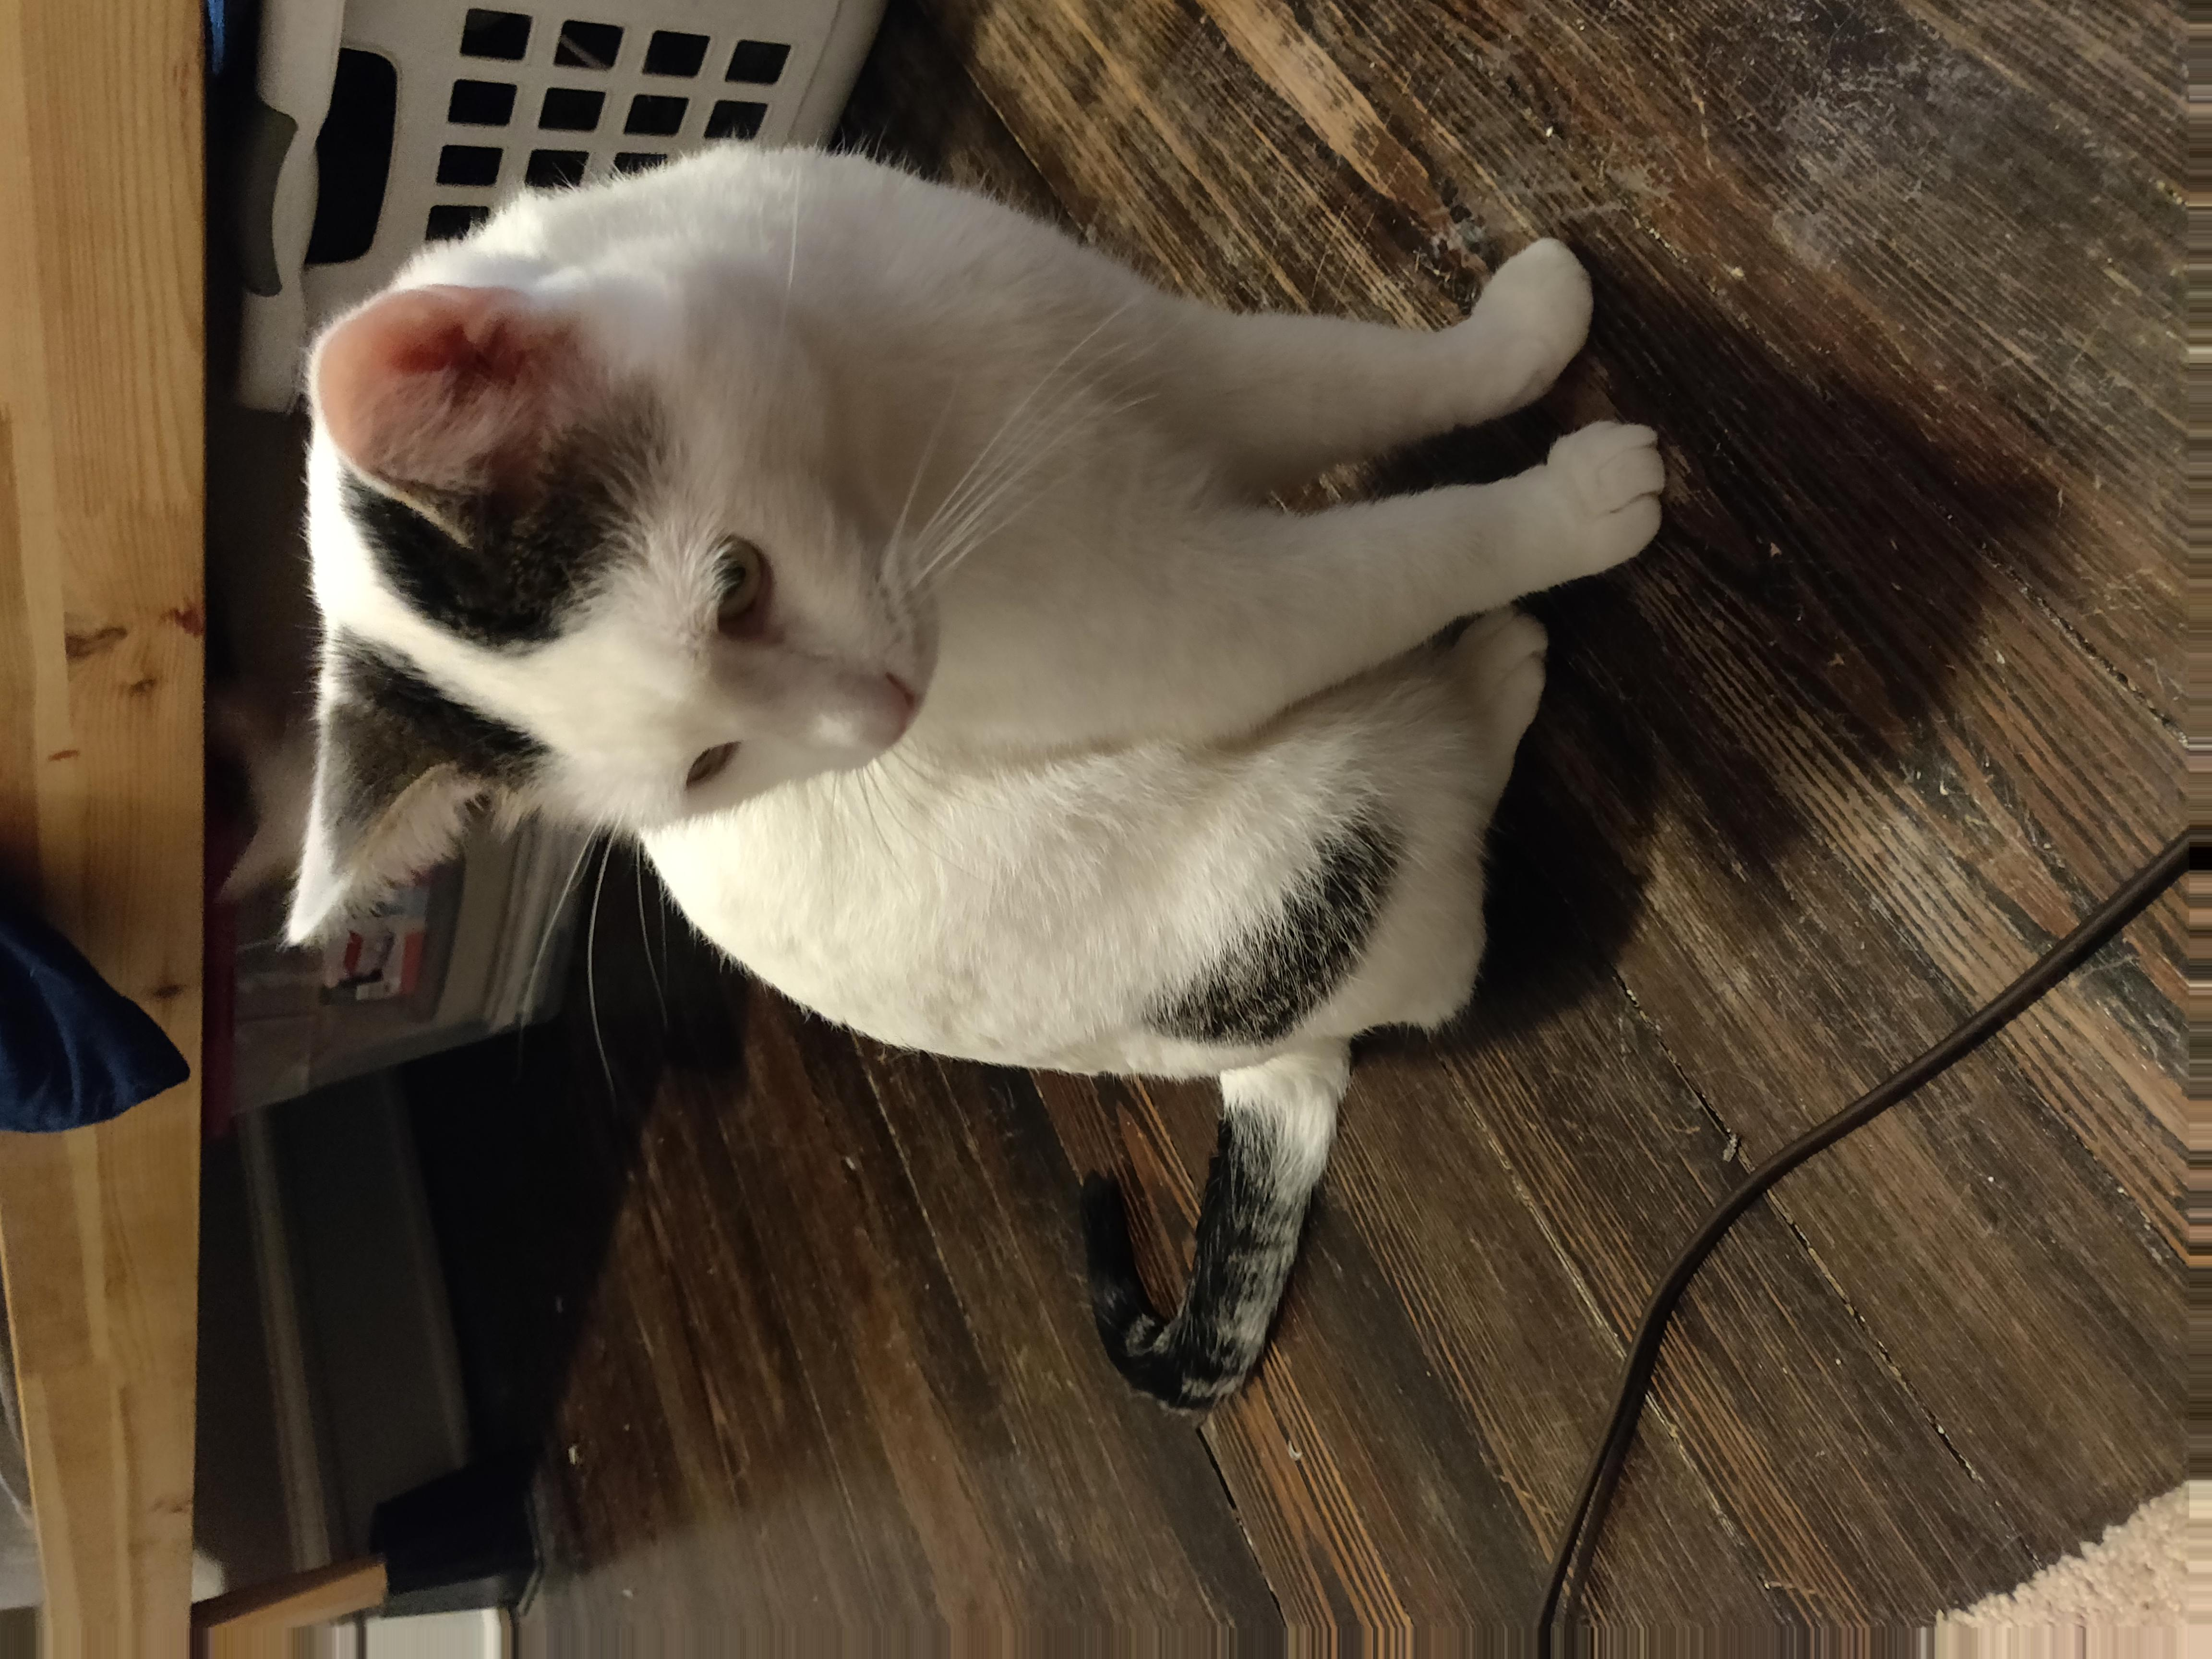cat: (274, 138, 1671, 1081)
